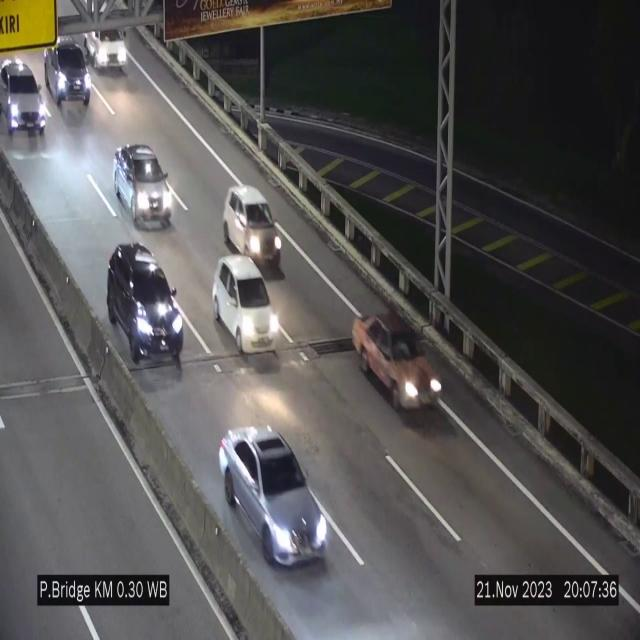Car: (219, 426, 329, 564), (350, 306, 444, 420), (106, 242, 186, 366), (214, 256, 280, 354), (114, 145, 172, 227), (42, 37, 98, 111), (223, 186, 280, 258), (1, 59, 45, 137)
